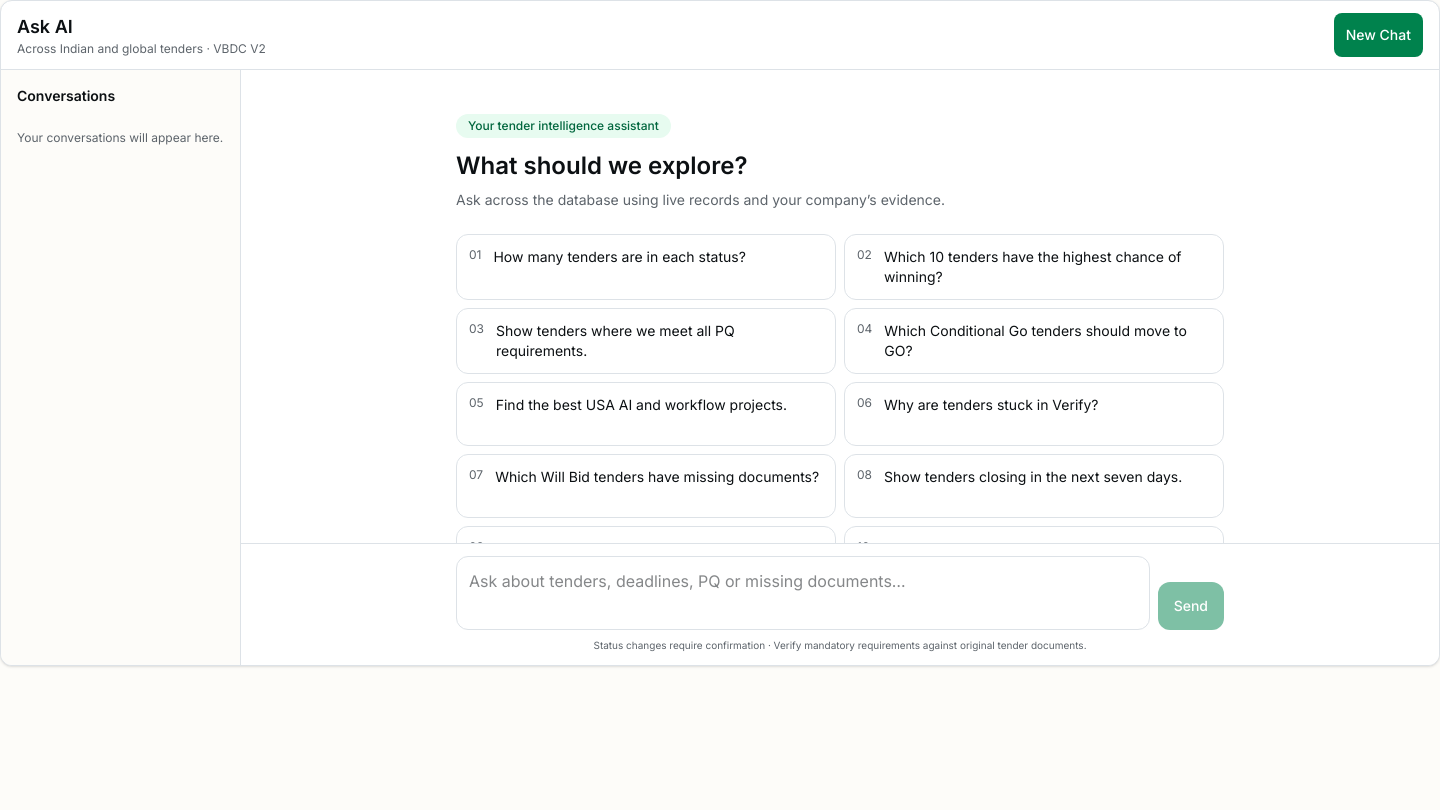
restores input after a truncated stream and removes unfinished text
Click the button "Which 10 tenders have the highest chance of winning?". click: point(1034, 267)
box: [844,234,1224,300]
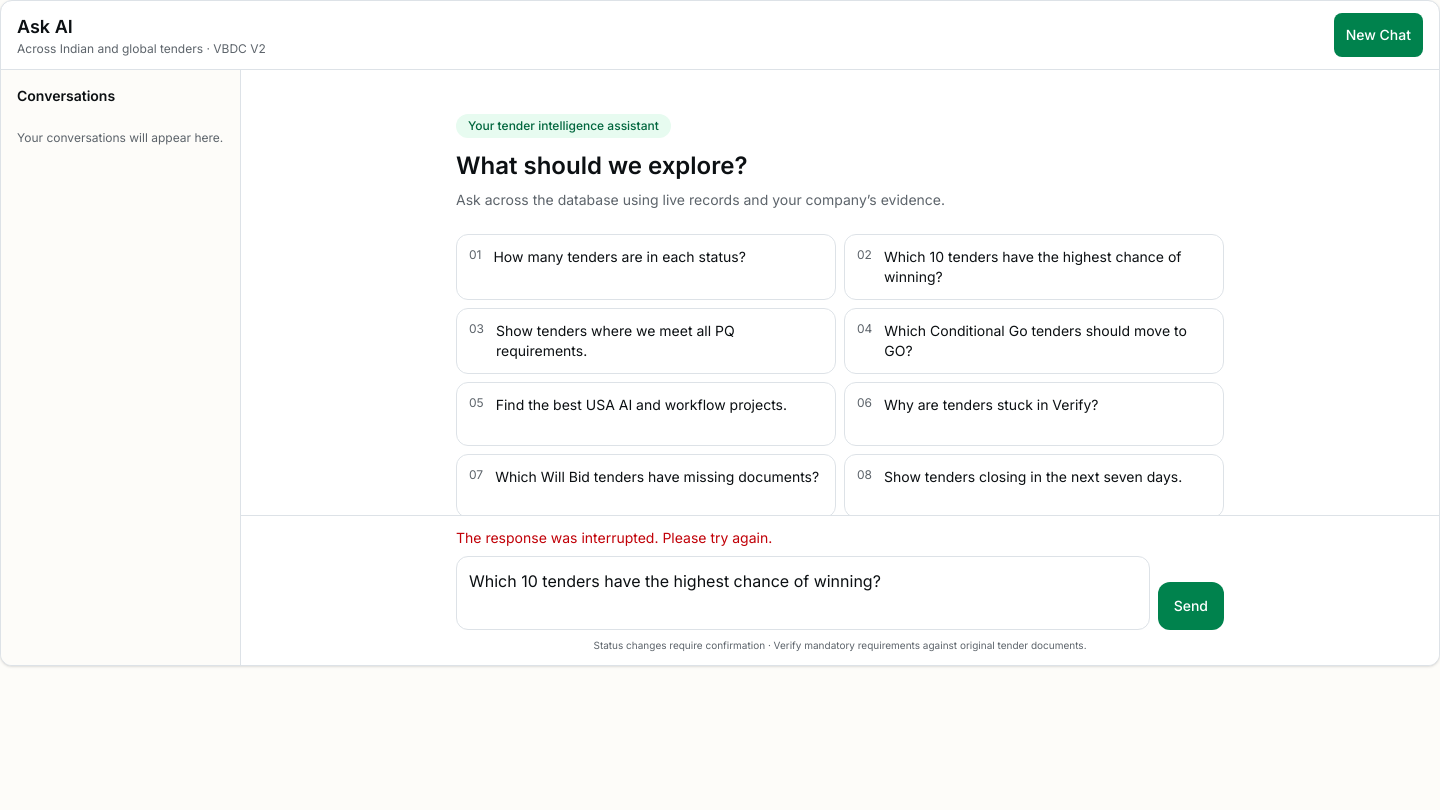
expect the message "The response was interrupted. Please try again." is shown: met, box [456,529,772,546]
expect the text box holds "Which 10 tenders have the highest chance of winning?": met, box [456,556,1150,630]
